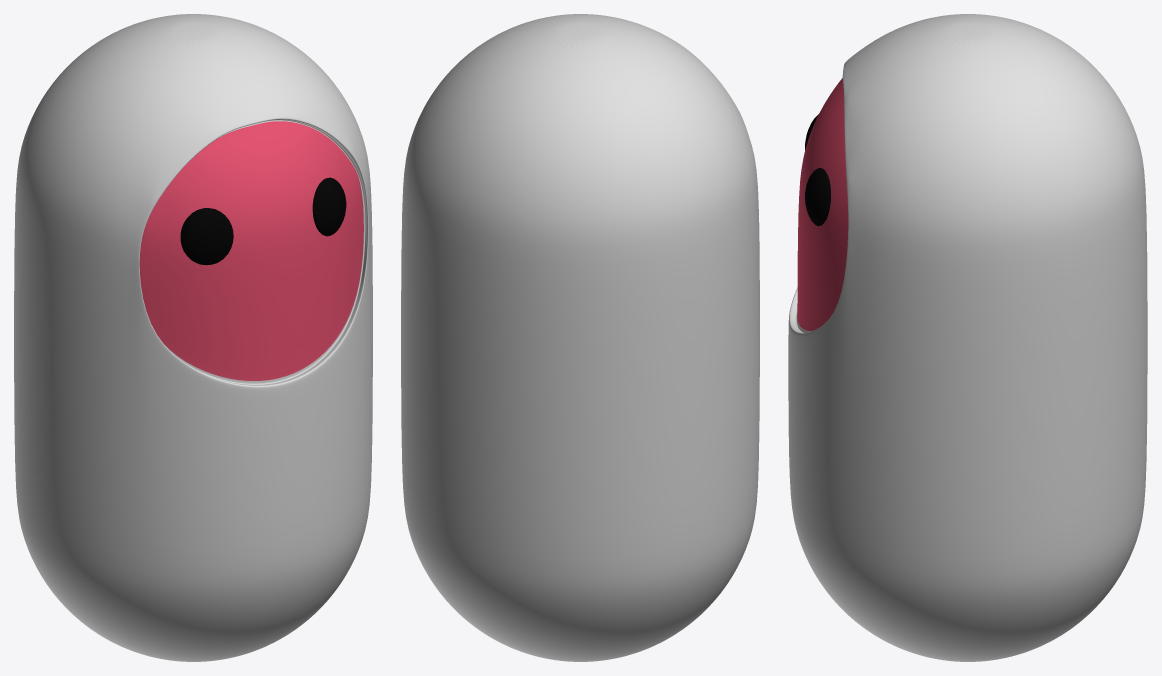
Rendered from (Msh)Character.fbx.
3 views of the same model, side by side, from view 1: azimuth 30°, elevation 25°; view 2: azimuth 150°, elevation 25°; view 3: azimuth 270°, elevation 25° (orthographic).
Visible parts, largest first — view 1: body, eyes; view 2: body; view 3: body, eyes.
Boxes of the visible parts, <box> form: body: <box>14,14,372,661</box>; eyes: <box>180,177,346,265</box>; body: <box>401,14,759,661</box>; body: <box>788,14,1147,661</box>; eyes: <box>805,114,830,226</box>.
Bounding box in the file's own units: 107 × 201 × 107.
